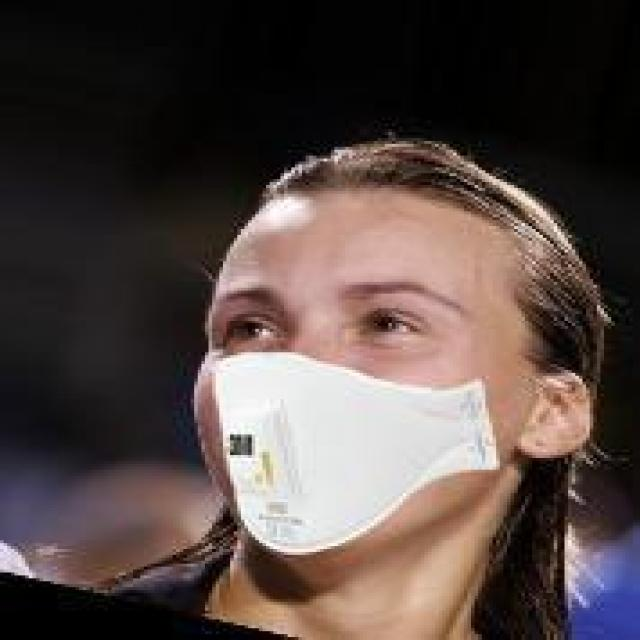mask: (148, 115, 608, 570)
